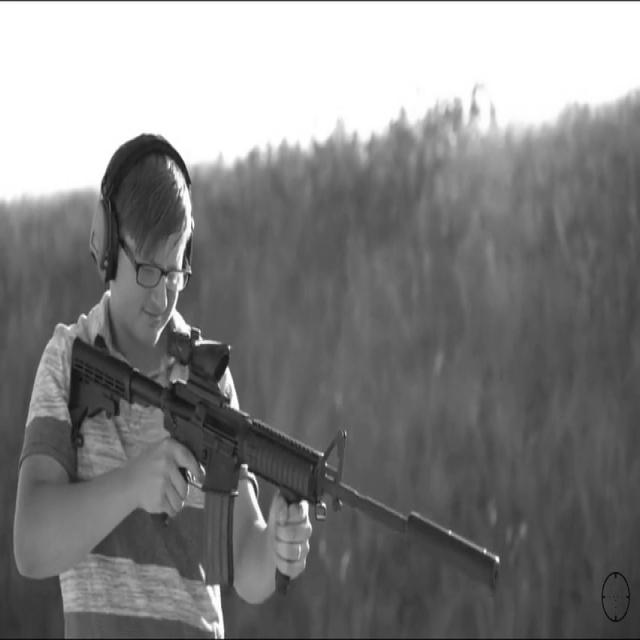Sniper: (42, 244, 530, 640)
